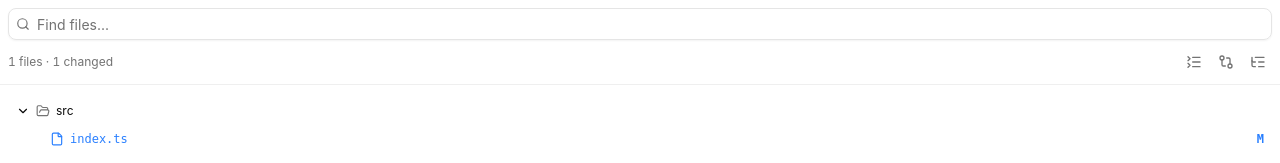
it: clicking a directory collapses its children
The image size is (1280, 163).
Check: the text "index.ts" is shown, box [70,132,128,146]
# Click the dir button to collapse
Click the button "src".
click(23, 111)  # box [8,97,1272,125]
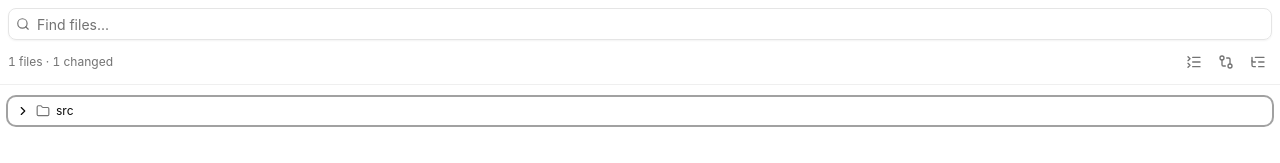
Check: the button "index.ts" is gone
